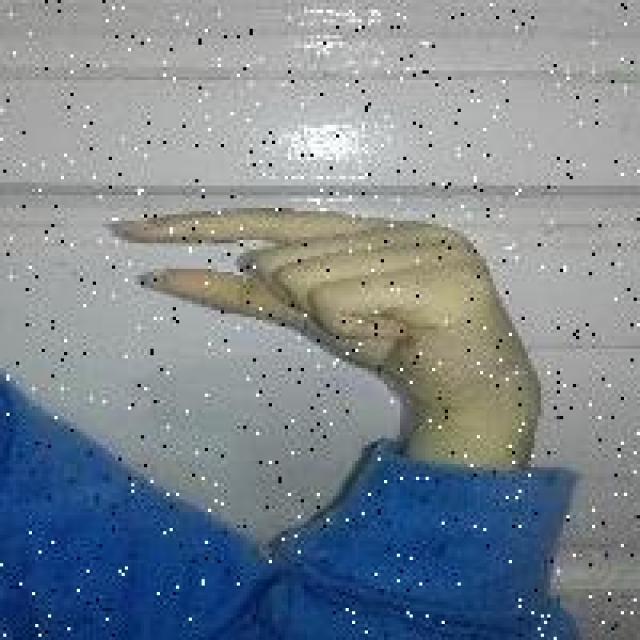G: (117, 200, 549, 402)
